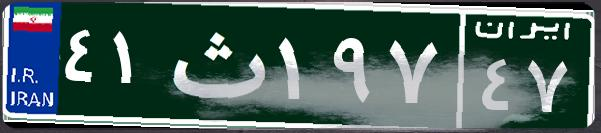1: (273, 28, 330, 110), (110, 28, 158, 105)
4: (57, 26, 110, 107), (475, 38, 525, 113)
7: (385, 28, 445, 110), (525, 38, 570, 115)
9: (330, 28, 385, 110)
ث: (158, 15, 273, 115)
